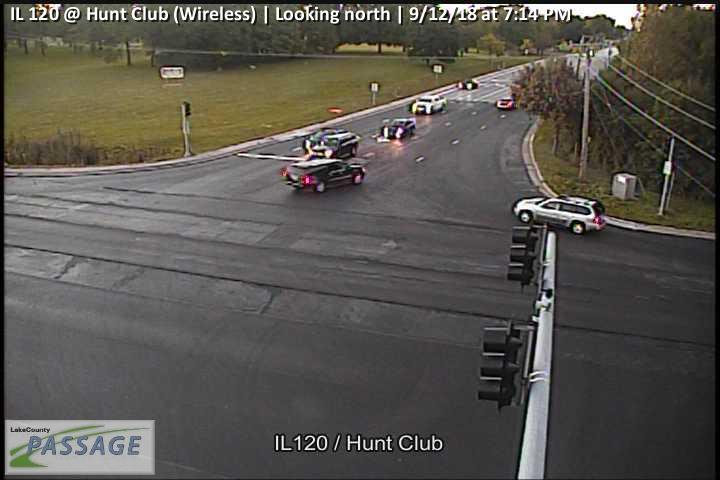SUV: (512, 192, 607, 236), (282, 156, 365, 194), (304, 128, 361, 159), (410, 94, 446, 116)
Sedan: (382, 118, 416, 140)
